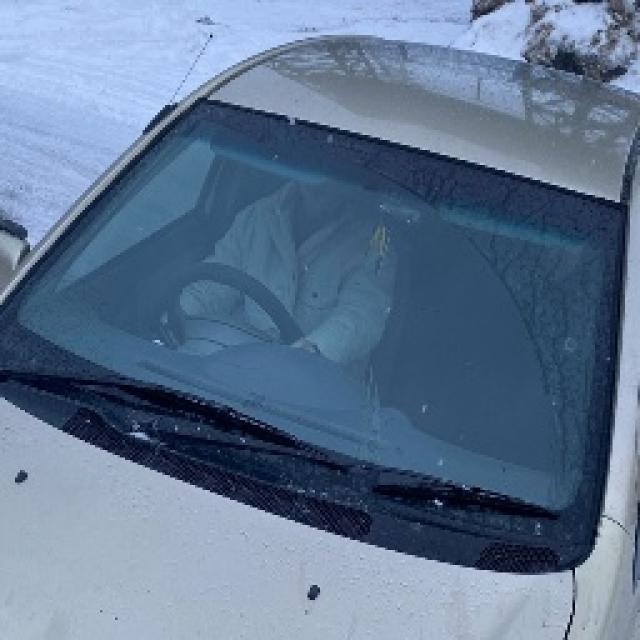windshield: (0, 89, 625, 559)
